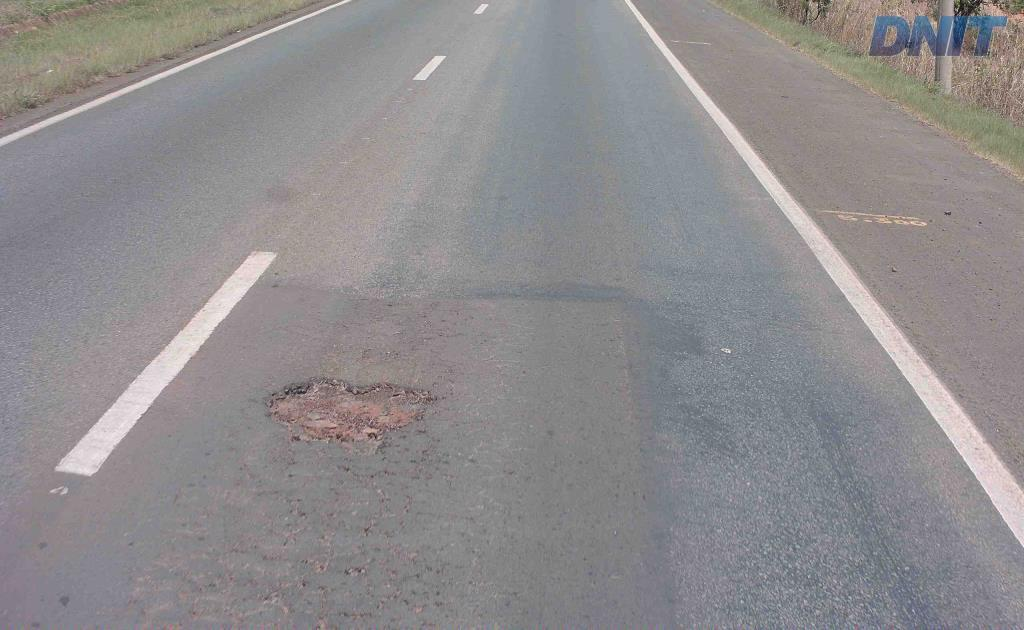crack: (295, 543, 378, 576), (398, 549, 439, 588)
pothole: (256, 367, 446, 456)
